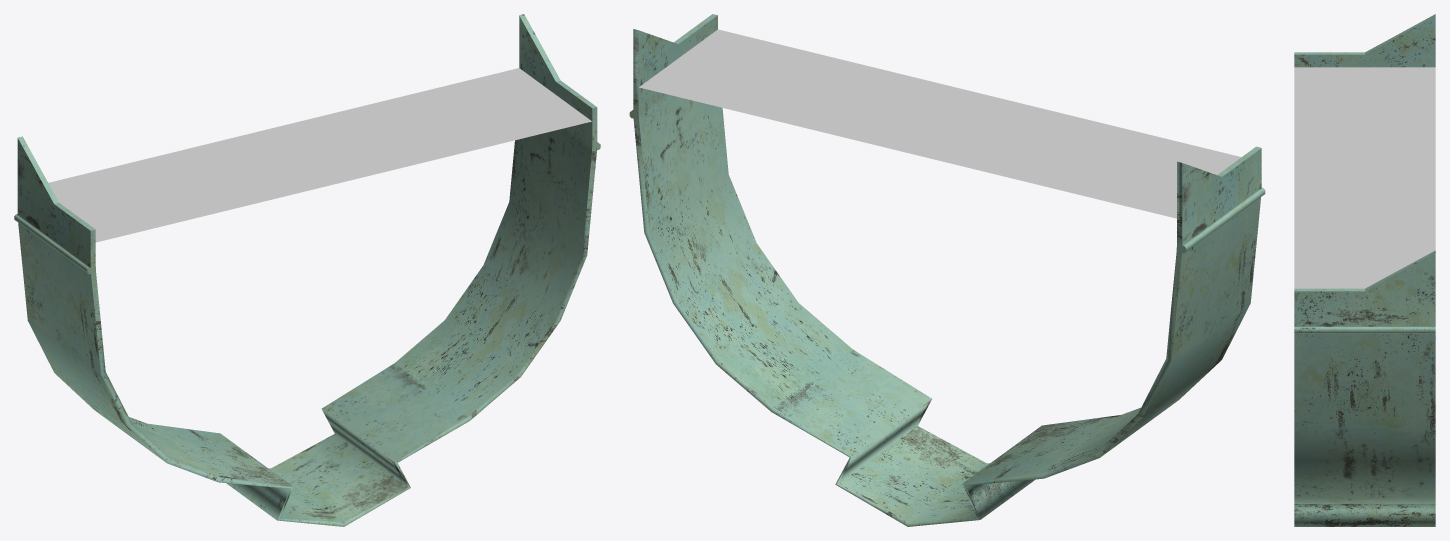
File: boat_G_mid_3.fbx
3 views of the same model, side by side, from view 1: azimuth 30°, elevation 25°; view 2: azimuth 150°, elevation 25°; view 3: azimuth 270°, elevation 25° (orthographic). The views are drawn at different scales.
Parts seen in each view (by area): view 1: boat_G_mid_3; view 2: boat_G_mid_3; view 3: boat_G_mid_3.
Boxes of the visible parts, bbox=[...] form: boat_G_mid_3: bbox=[14, 14, 600, 526]; boat_G_mid_3: bbox=[629, 14, 1265, 526]; boat_G_mid_3: bbox=[1294, 14, 1435, 526].
Size of the model in its own units: 1014 by 750 by 250.
